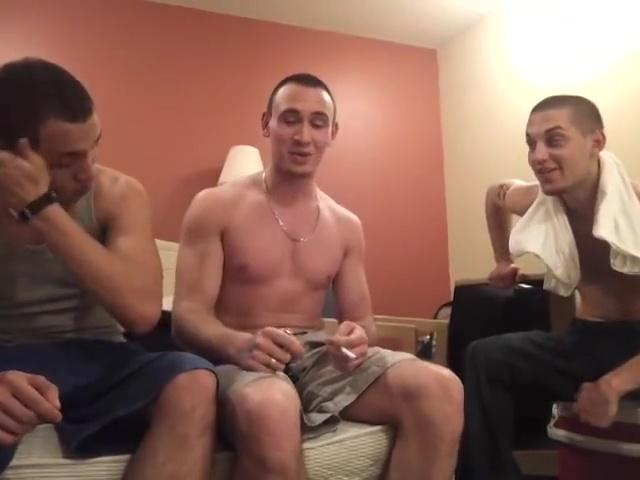cigarette: (339, 346, 360, 363)
